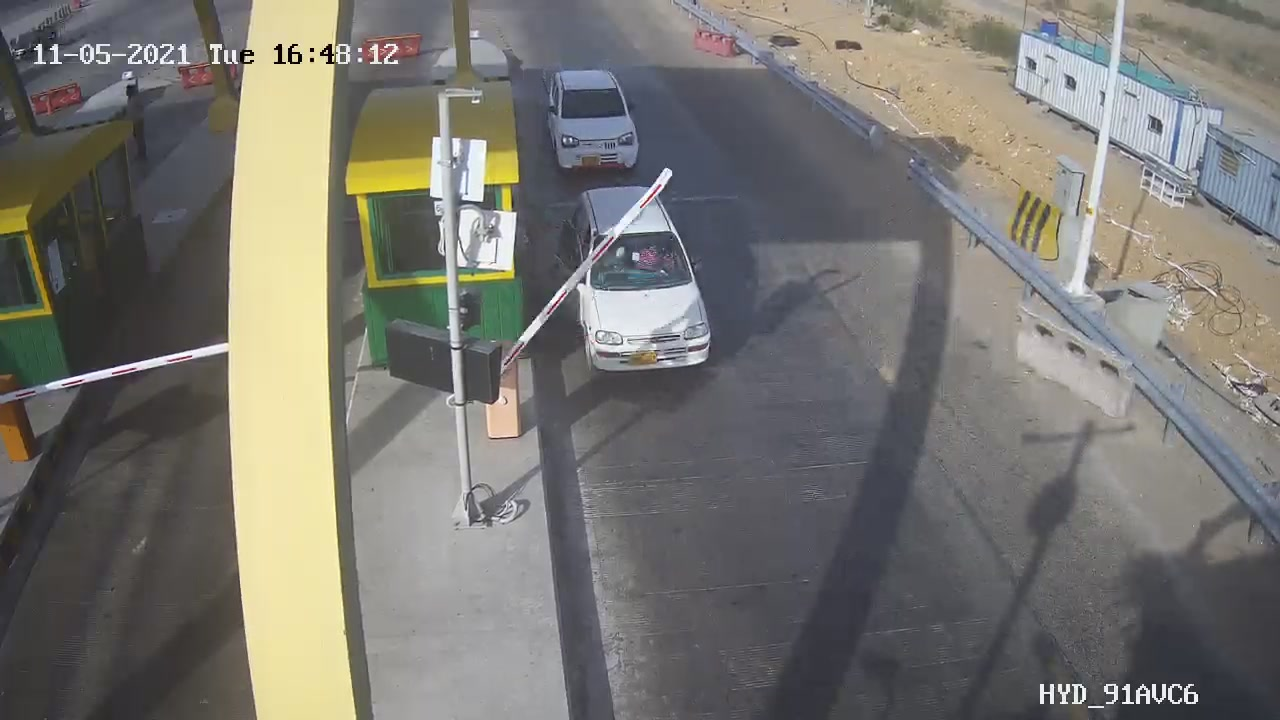F1: (552, 178, 727, 383), (530, 59, 663, 177)
